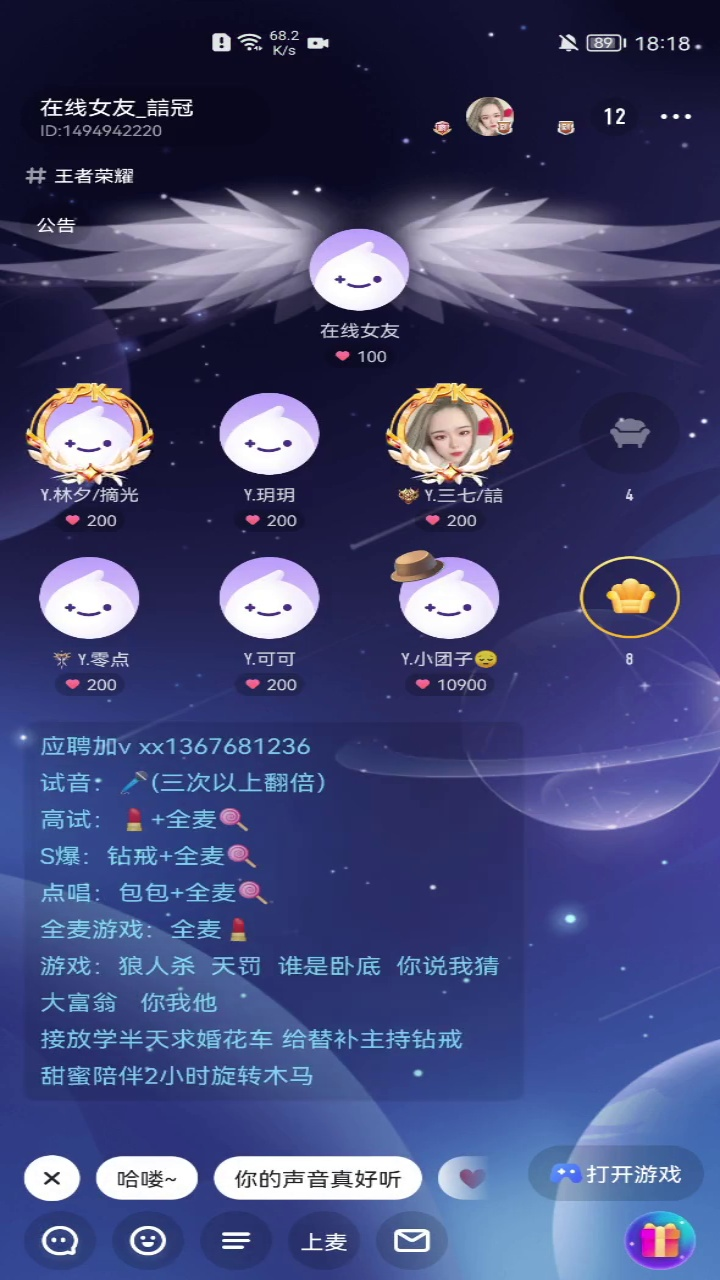avatar: (24, 382, 159, 486), (384, 545, 503, 644), (304, 226, 415, 317), (37, 553, 140, 640), (215, 556, 319, 640), (219, 390, 319, 474)
